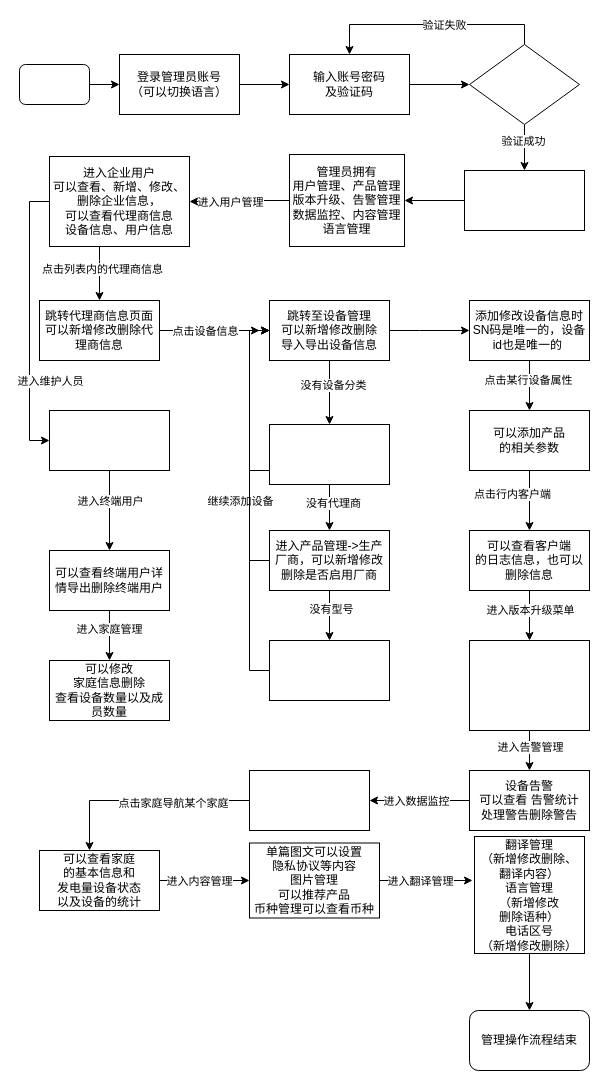
Image size: 607x1088. Some labels were removed from this diagram. Each missing label, with the box of its shape:
可以新增删除修改 维护人员的 信息及状态: (48, 410, 170, 470)
硬件程序升级 （新增修改删除） APP软件升级 （新增修改删除） 可以上传升级所需的文件: (468, 640, 590, 730)
管理员操作流程: (18, 64, 90, 104)
输入用户账号 即可搜索当前账号 所有家庭的设备及 发电信息输出功率: (248, 770, 370, 830)
进入产品管理->产品型号，可以新增、修改、删除、是否启用、排序产品型号: (268, 640, 390, 700)
进入产品管理->设备管理，可以新增修改删除设备的分类: (268, 424, 390, 484)
进入后台管理: (464, 170, 584, 230)
验证登录信息 是完整: (468, 44, 580, 124)
